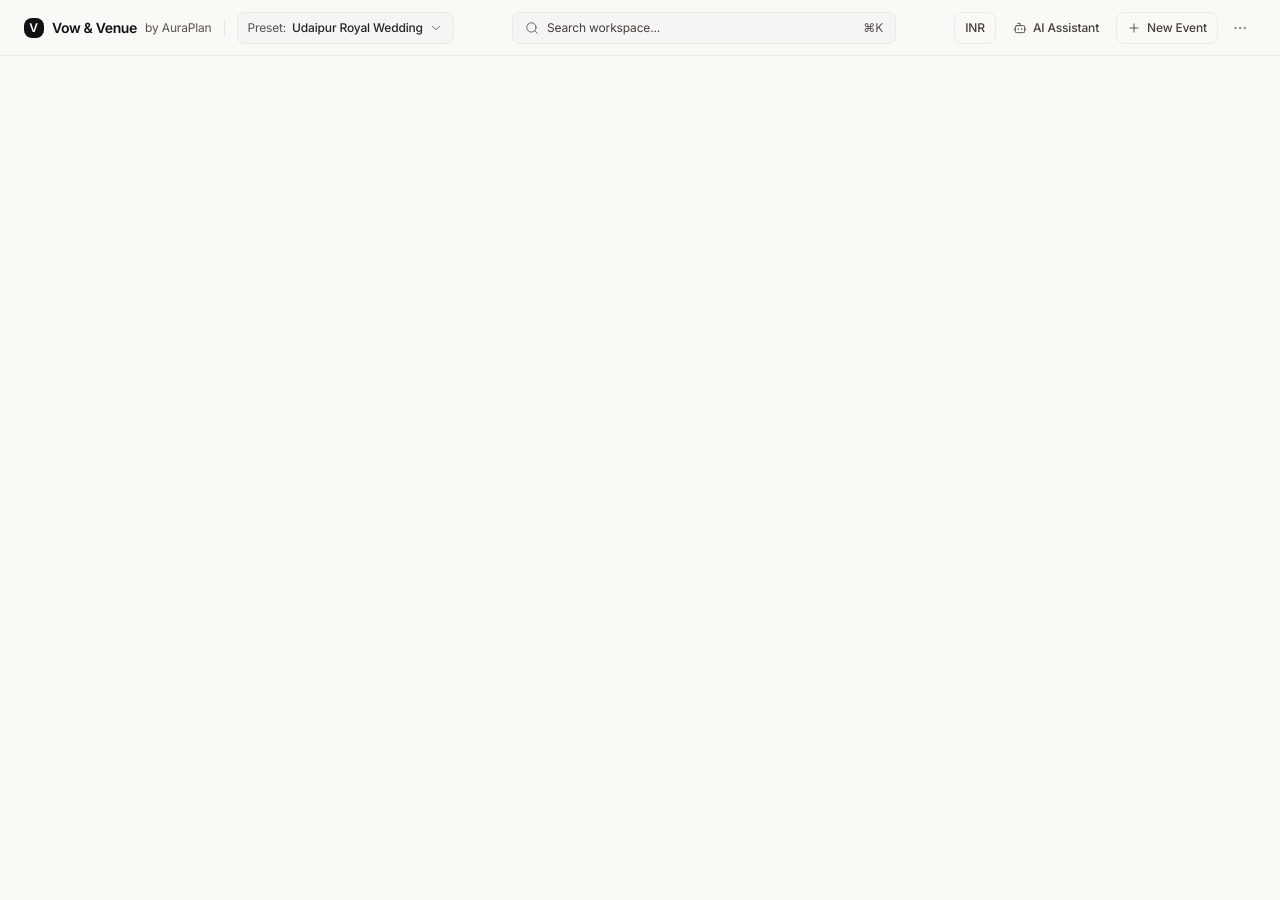
Test: Component Interactions: Category Row & New Event Modal › NewEventModal Form Validation › displays inline validation errors when required fields are missing on submit
Click the button "New Event" at (1167, 28), box [1116, 12, 1218, 44]
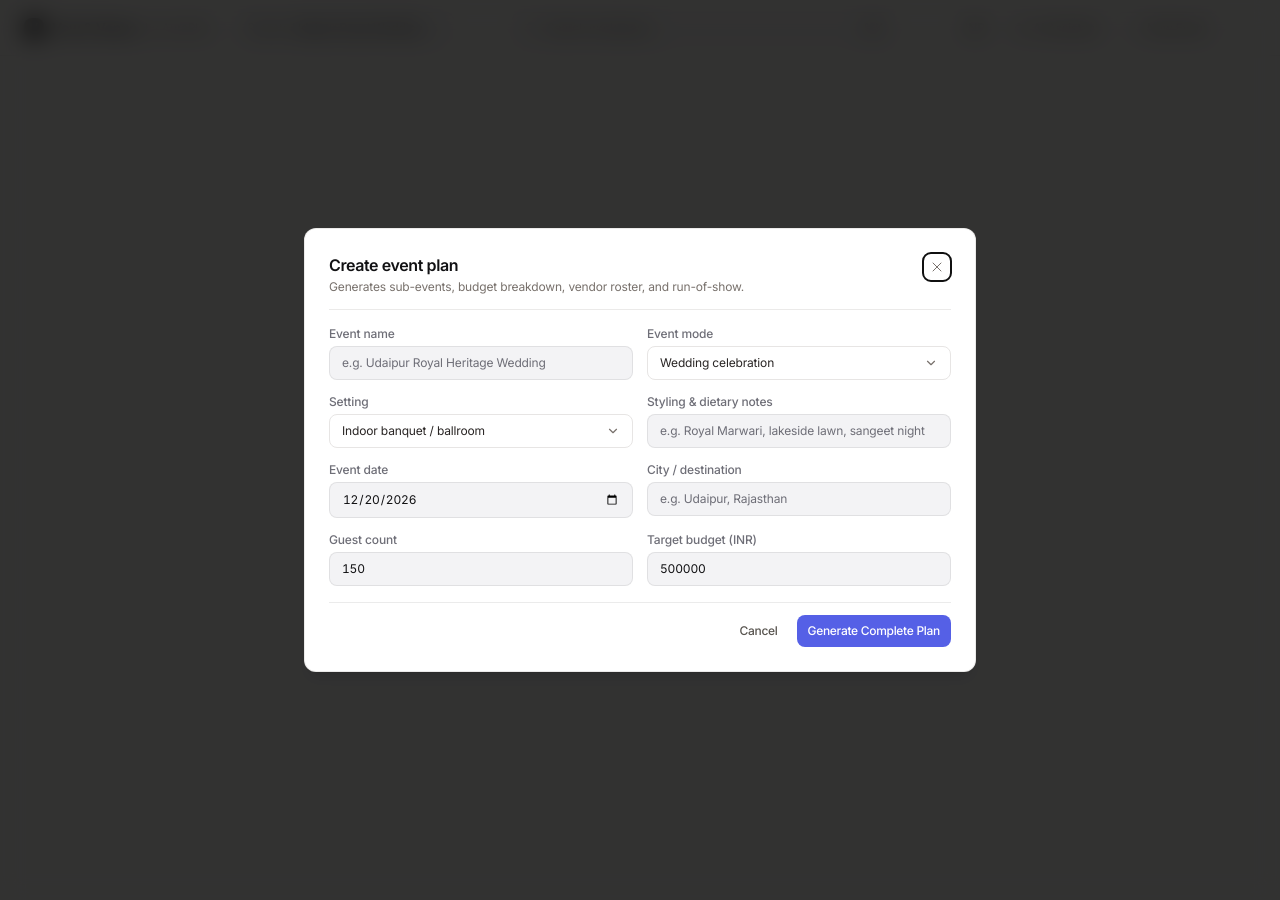
Submit the form named "Generate Complete Plan", box [329, 326, 951, 647]
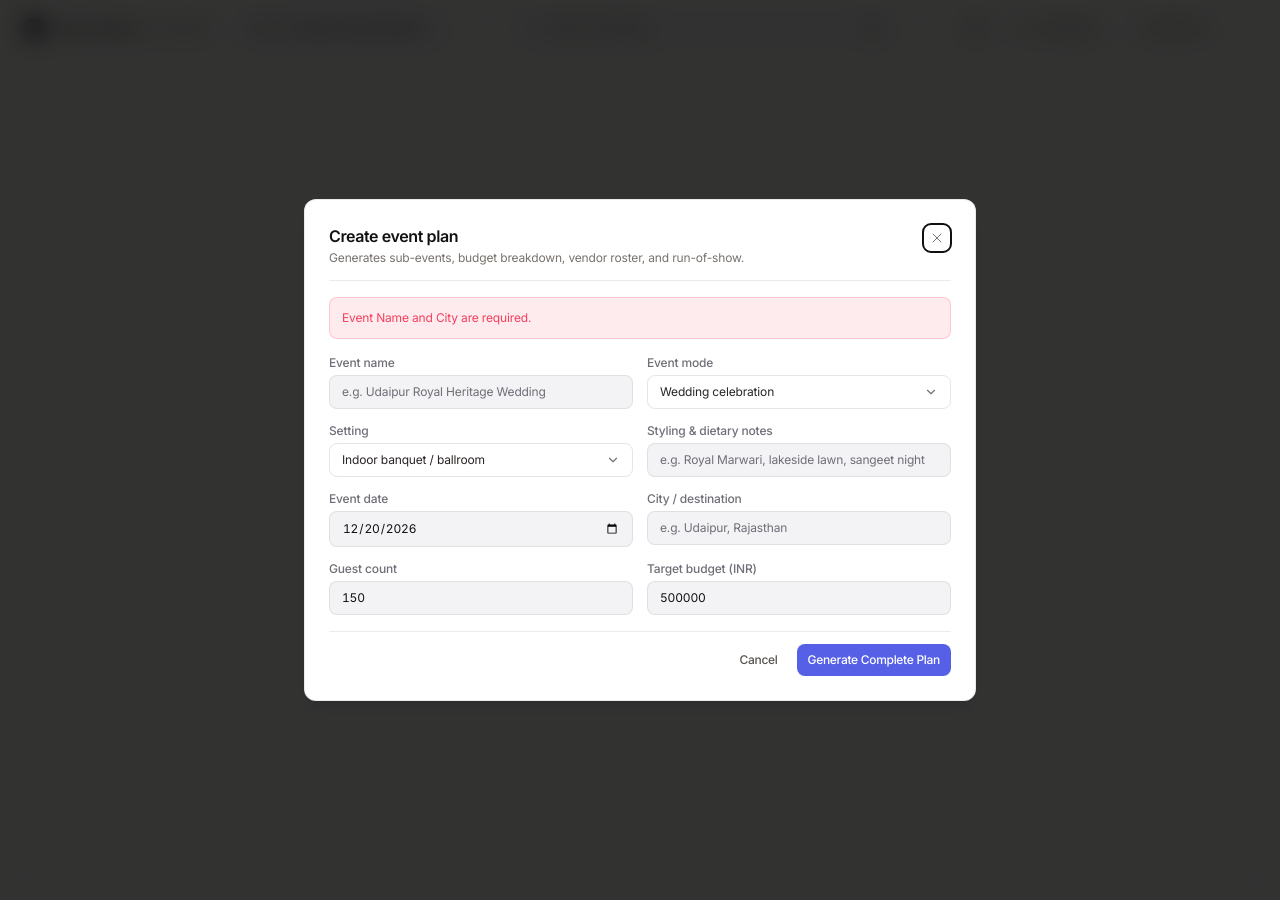
expect the text "Event Name and City are required." is shown: met, box [329, 297, 951, 339]
